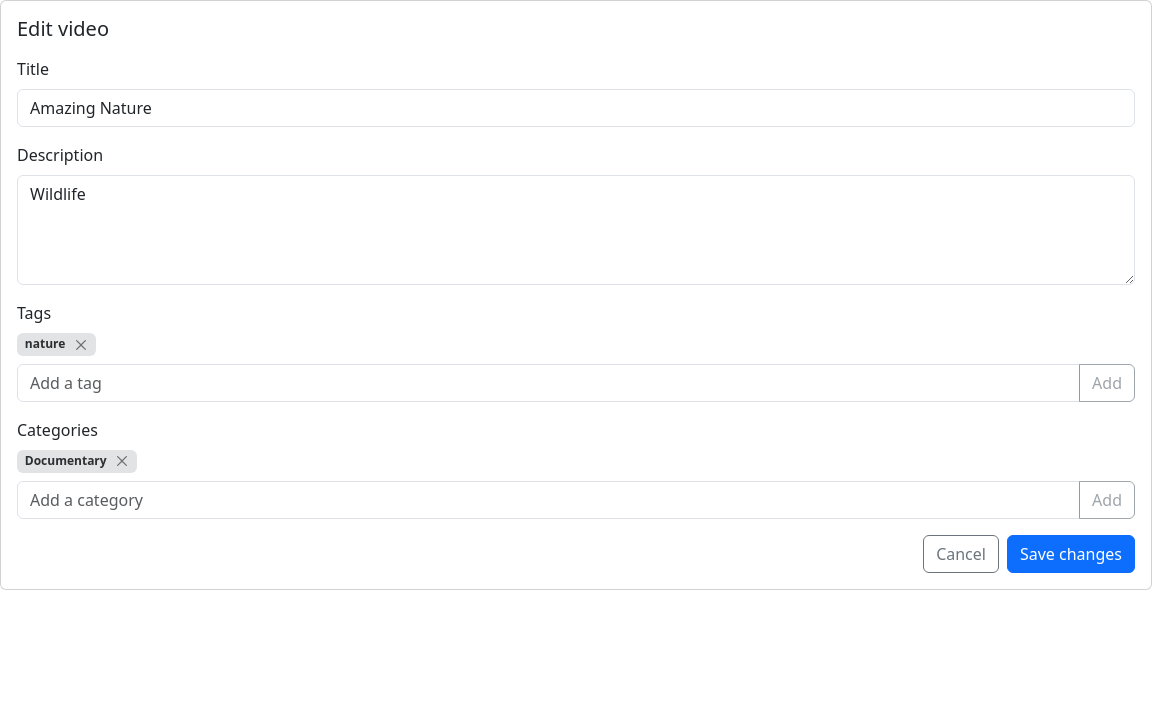
VideoEditForm › disables the buttons while saving
Click the button "Save changes" at (1071, 554), box top-left (1007, 534), bottom-right (1135, 572)
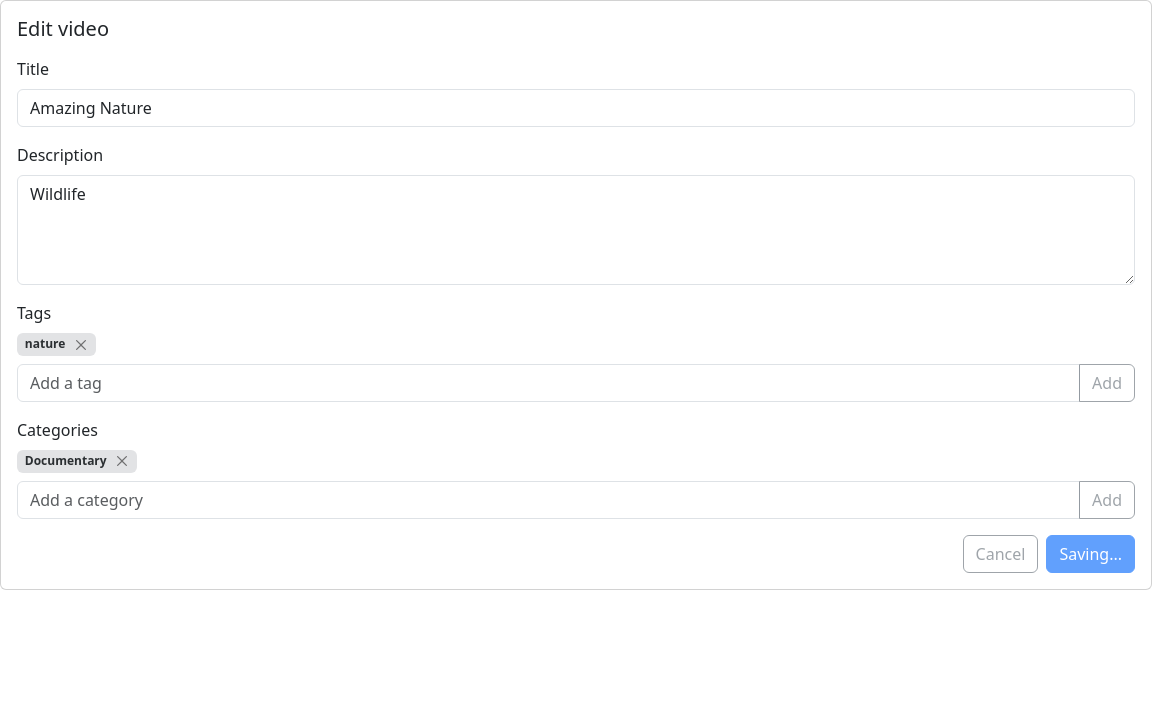
Expected: the button "Saving..." is disabled, top-left (1046, 534), bottom-right (1135, 572)
Expected: the button "Cancel" is disabled, top-left (963, 534), bottom-right (1038, 572)
